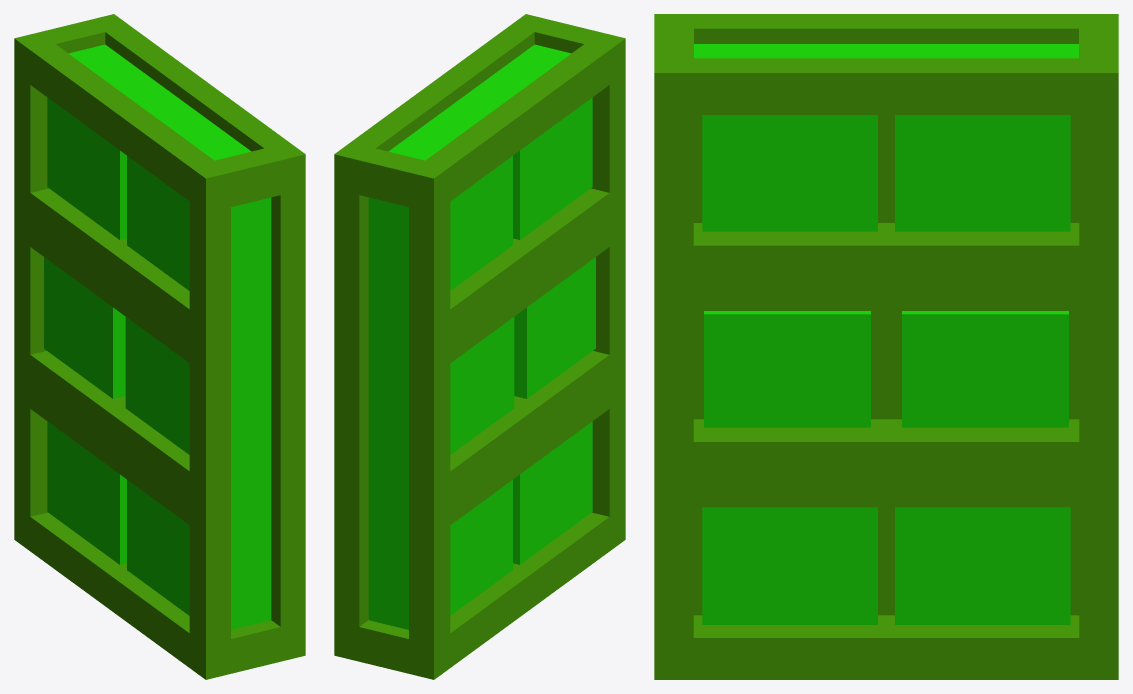
The model's file is Ammo.fbx.
3 renders of one model, left to right at view 1: azimuth 30°, elevation 25°; view 2: azimuth 150°, elevation 25°; view 3: azimuth 270°, elevation 25°, orthographic. The views are drawn at different scales.
Visible parts, largest first — view 1: Cube; view 2: Cube; view 3: Cube.
Part boxes in pixels (x1,y1,x2,y2): Cube: (14, 14, 305, 679); Cube: (334, 14, 625, 679); Cube: (654, 14, 1118, 679).
Size of the model in its own units: 41.69 by 200 by 139.
